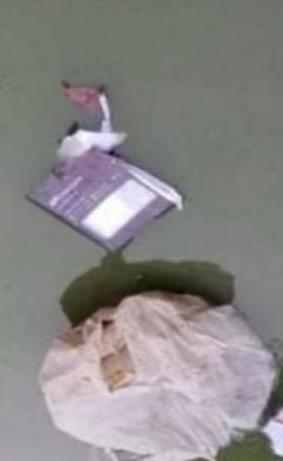Trash: (34, 286, 280, 461), (24, 82, 187, 254)
